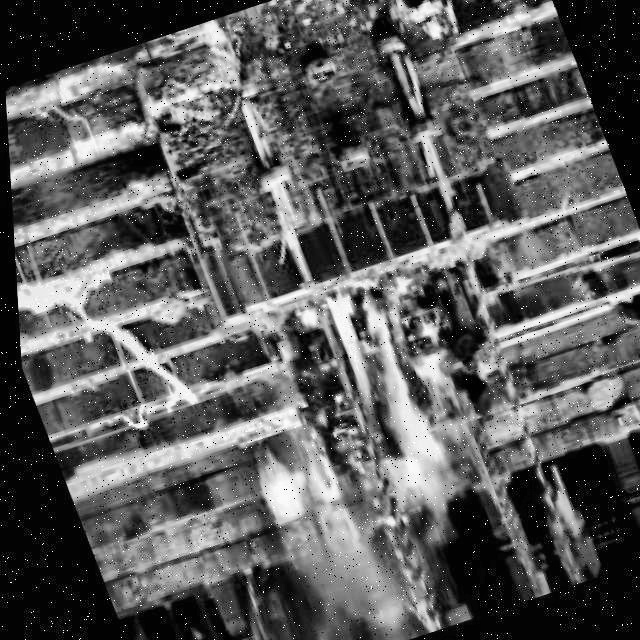Fire: (311, 265, 496, 524)
